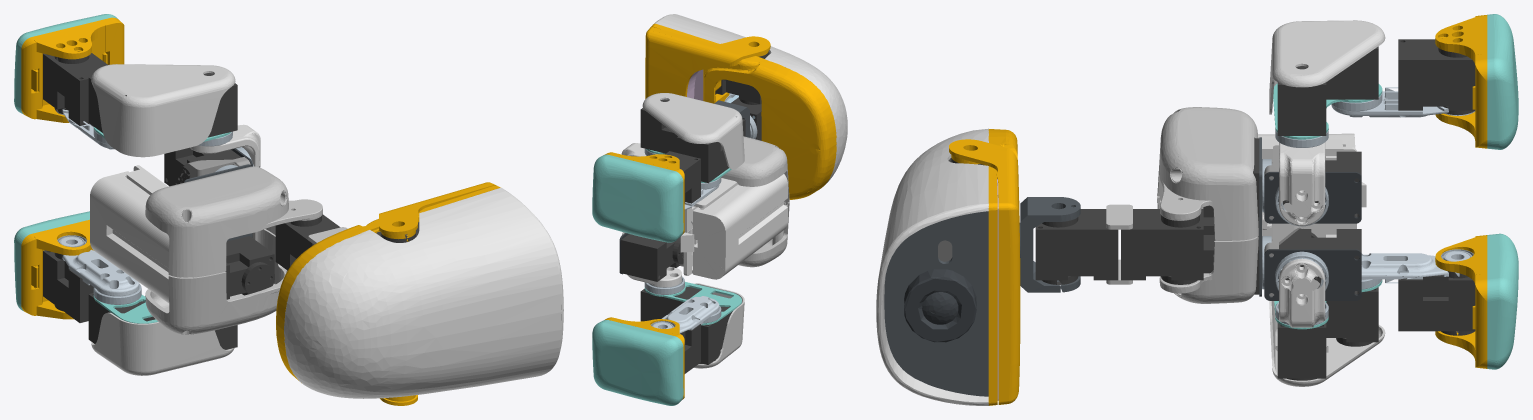
Rendered from microduck_assembly.obj.
3 views of the same model, side by side, from view 1: azimuth 30°, elevation 25°; view 2: azimuth 150°, elevation 25°; view 3: azimuth 270°, elevation 25° (orthographic). The views are drawn at different scales.
Visible parts, largest first — view 1: top_head_shell_43, left_shell_09, upper_leg_left_17, np_f970_07, right_shell_02, upper_leg_right_63, xl330_23, ankle_left_27, xl330_08, foot_left_25, bottom_head_shell_50, xl330_65 (+15 smaller); view 2: bottom_head_shell_50, sole_left_24, np_f970_07, sole_right_68, jaw_49, upper_leg_left_17, top_head_shell_43, xl330_55, left_shell_09, leg_66, xl330_18, power_support_06 (+19 smaller); view 3: face_part_39, left_shell_09, top_head_shell_43, jaw_49, upper_leg_left_17, xl330_29, xl330_30, xl330_23, xl330_65, sole_right_68, sole_left_24, right_shell_02 (+26 smaller).
Part boxes in pixels (left/top/right/bottom): top_head_shell_43: left=284, top=187, right=563, bottom=398; left_shell_09: left=145, top=166, right=322, bottom=277; upper_leg_left_17: left=91, top=64, right=235, bottom=157; np_f970_07: left=90, top=171, right=170, bottom=303; right_shell_02: left=145, top=229, right=287, bottom=334; upper_leg_right_63: left=91, top=312, right=234, bottom=375; xl330_23: left=43, top=53, right=107, bottom=125; ankle_left_27: left=34, top=23, right=105, bottom=122; xl330_08: left=225, top=236, right=274, bottom=299; foot_left_25: left=21, top=17, right=124, bottom=119; bottom_head_shell_50: left=276, top=185, right=500, bottom=380; xl330_65: left=43, top=250, right=101, bottom=322; bottom_head_shell_50: left=651, top=23, right=836, bottom=199; sole_left_24: left=592, top=154, right=683, bottom=242; np_f970_07: left=693, top=174, right=787, bottom=279; sole_right_68: left=592, top=320, right=683, bottom=405; jaw_49: left=645, top=27, right=770, bottom=98; upper_leg_left_17: left=642, top=93, right=744, bottom=169; top_head_shell_43: left=654, top=14, right=847, bottom=189; xl330_55: left=621, top=234, right=683, bottom=281; left_shell_09: left=721, top=136, right=789, bottom=204; leg_66: left=654, top=296, right=719, bottom=333; xl330_18: left=676, top=136, right=728, bottom=183; power_support_06: left=680, top=178, right=737, bottom=275; face_part_39: left=884, top=211, right=988, bottom=396; left_shell_09: left=1157, top=107, right=1258, bottom=240; top_head_shell_43: left=876, top=128, right=988, bottom=405; jaw_49: left=949, top=139, right=1020, bottom=404; upper_leg_left_17: left=1269, top=20, right=1385, bottom=114; xl330_29: left=1121, top=209, right=1203, bottom=284; xl330_30: left=1035, top=209, right=1118, bottom=284; xl330_23: left=1398, top=39, right=1475, bottom=115; xl330_65: left=1398, top=271, right=1475, bottom=335; sole_right_68: left=1487, top=233, right=1518, bottom=369; sole_left_24: left=1487, top=14, right=1518, bottom=149; right_shell_02: left=1157, top=192, right=1258, bottom=303.
Size of the model in its own units: 0.1441 by 0.141 by 0.264.
